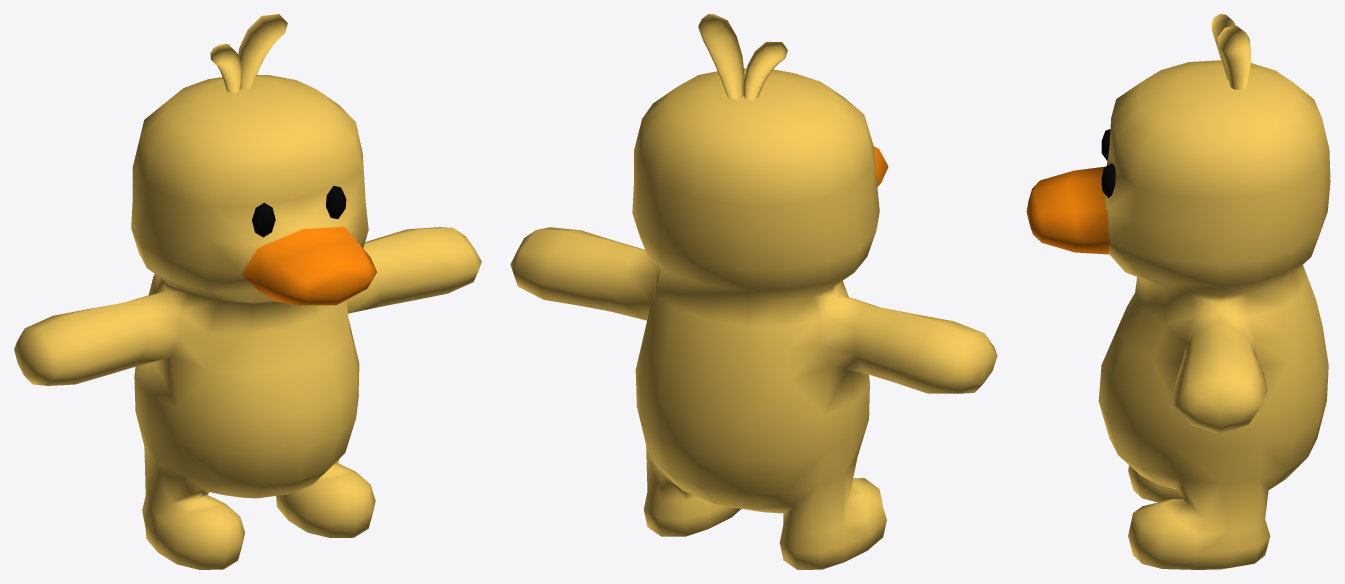
File: Duck.FBX
3 views of the same model, side by side, from view 1: azimuth 30°, elevation 25°; view 2: azimuth 150°, elevation 25°; view 3: azimuth 270°, elevation 25° (orthographic). The views are drawn at different scales.
Parts seen in each view (by area): view 1: Duck; view 2: Duck; view 3: Duck.
Part boxes in pixels (box(x1,y1,x2,y2)): Duck: box(14, 14, 481, 569); Duck: box(510, 14, 997, 569); Duck: box(1026, 14, 1330, 569).
Bounding box in the file's own units: 43.56 × 46.98 × 25.04.
1 material, 1 textured.
